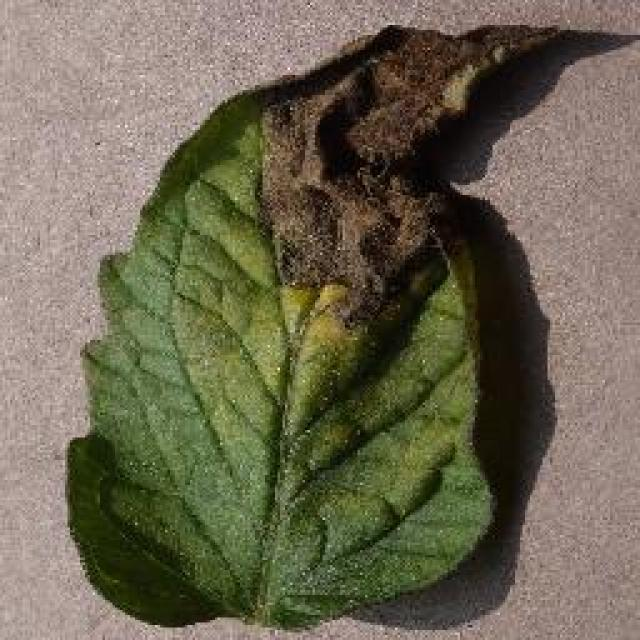Tomato___Late_blight: (65, 25, 638, 632)
